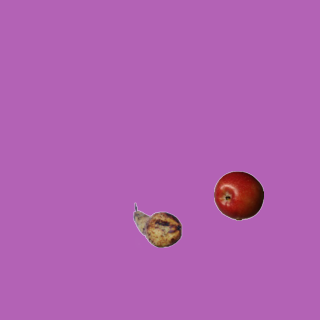Apple Braeburn: (213, 170, 263, 220)
Pear Abate: (132, 200, 182, 250)
